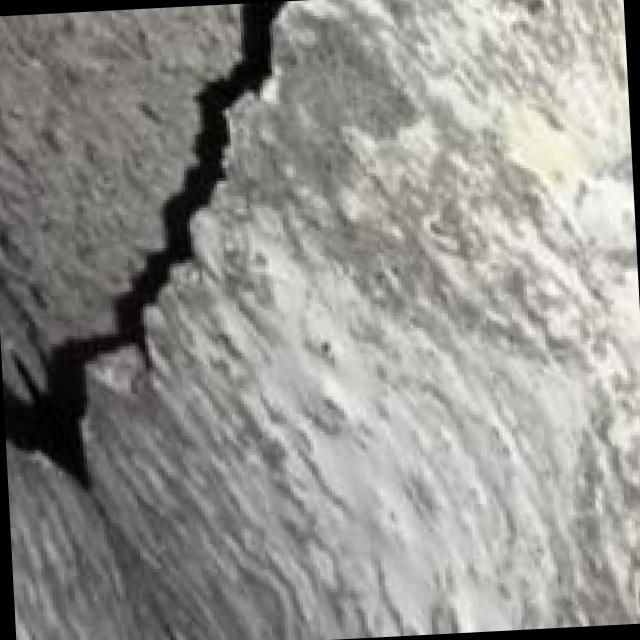crack: (0, 0, 412, 518)
